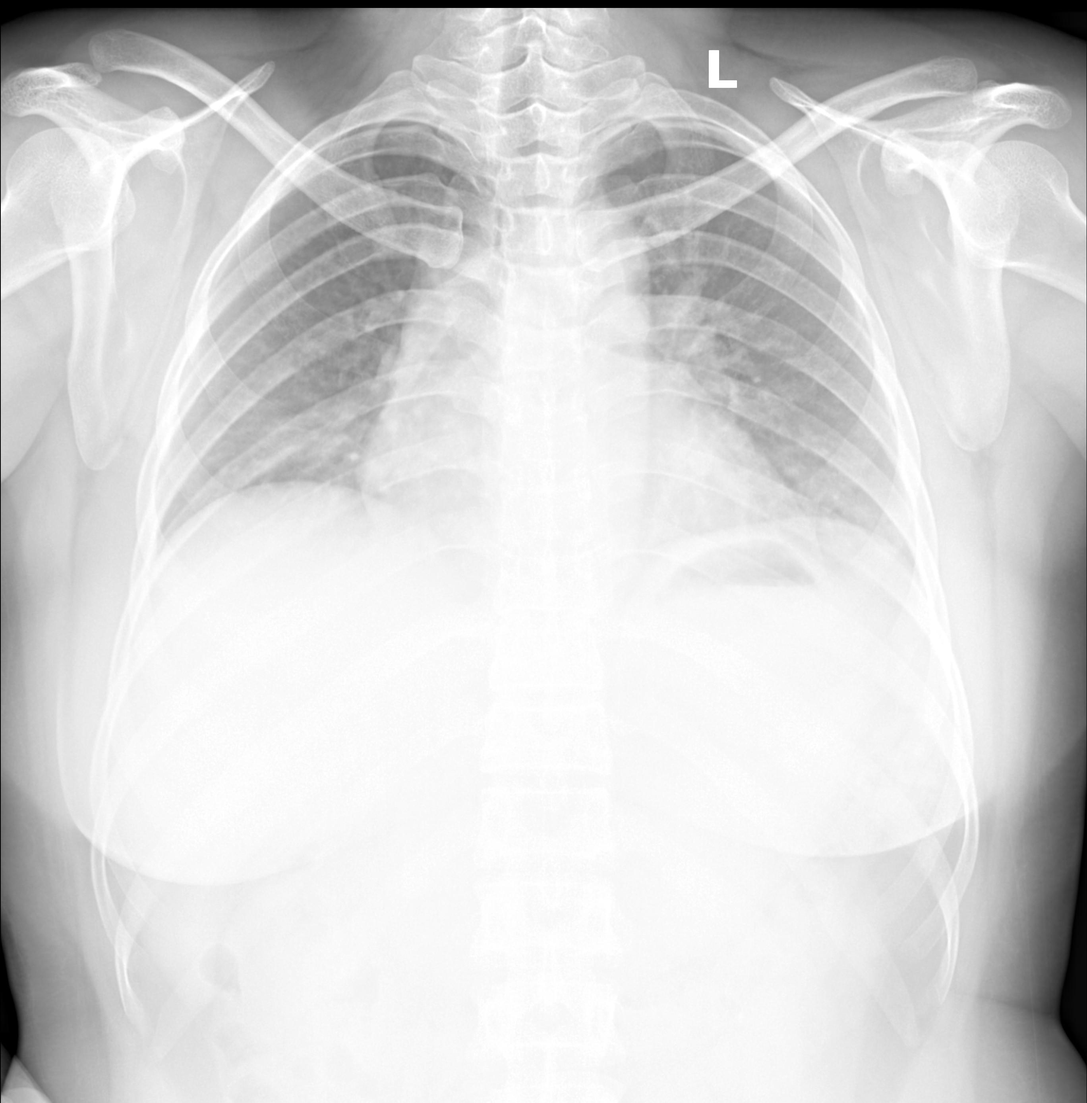Aortic enlargement: (554, 204, 652, 336)
Cardiomegaly: (350, 434, 819, 536)
